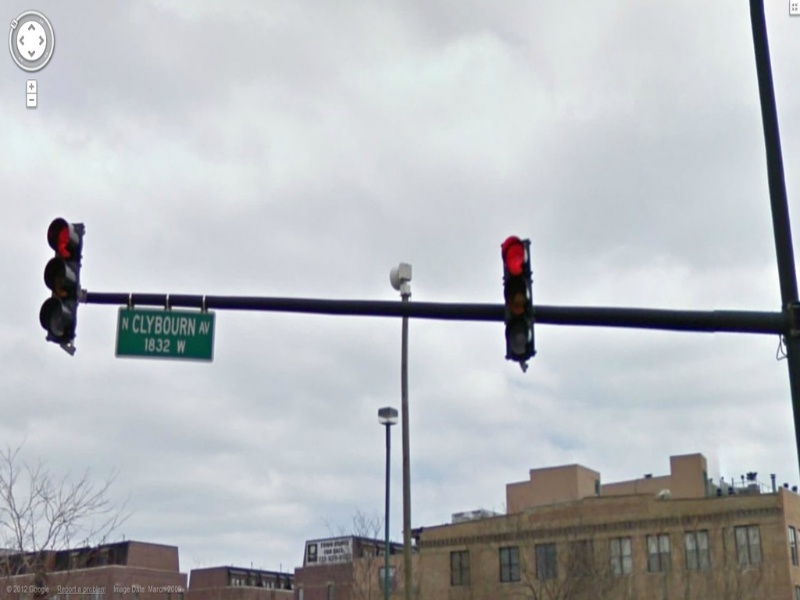red_light: (483, 224, 544, 310), (37, 208, 92, 270)
